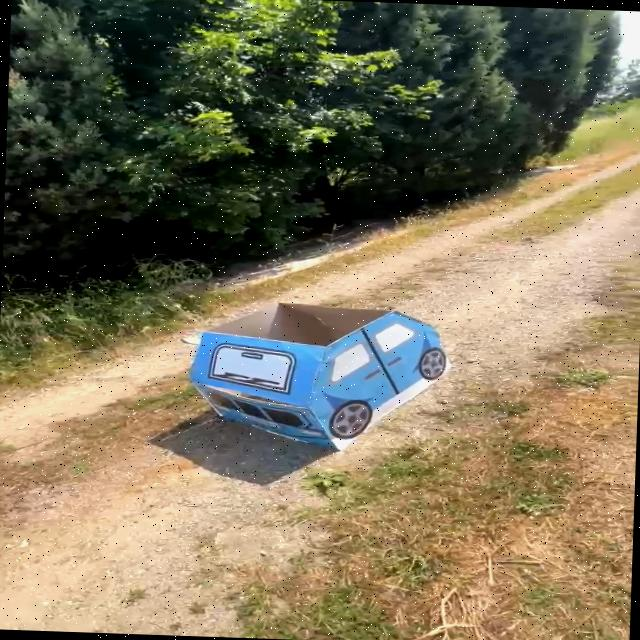blue_car: (165, 279, 471, 465)
